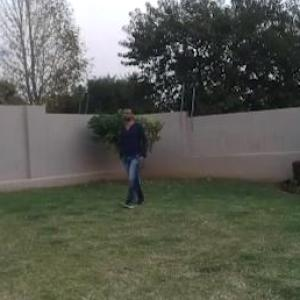follow: (116, 104, 151, 212)
